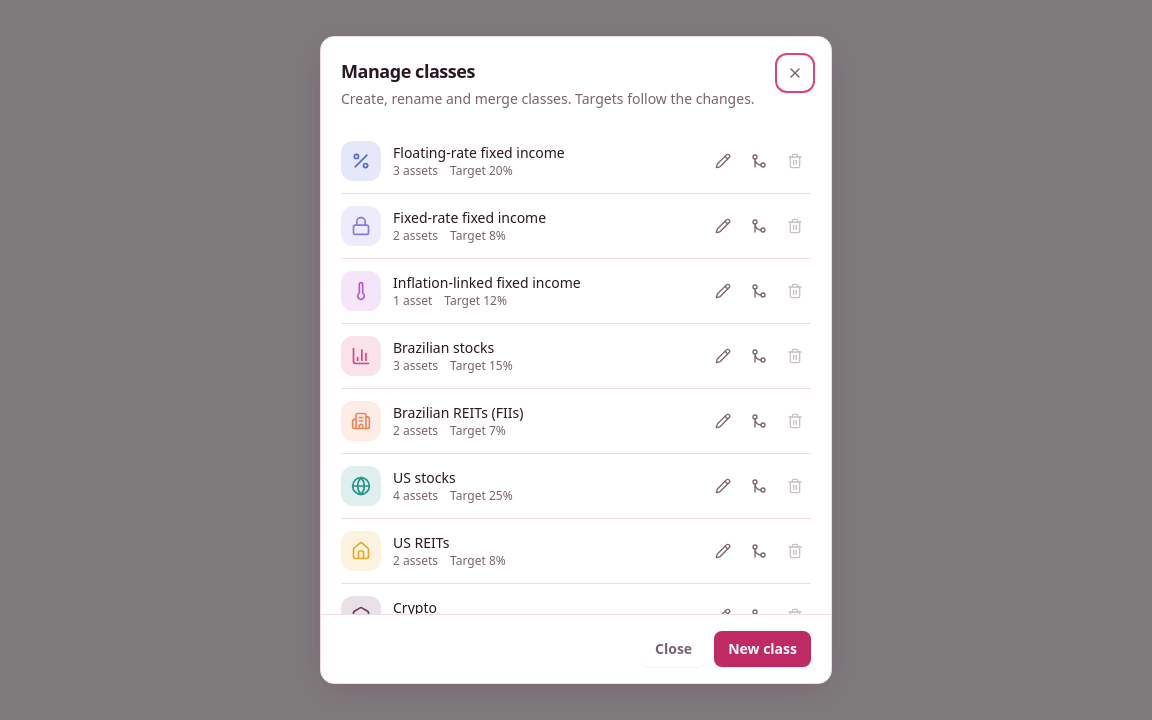
ClassManagerDialog: inglês e plural › traduz o diálogo, as classes padrão e a confirmação
The image size is (1152, 720).
Click the button named "Merge Brazilian REITs (FIIs) into another" at (759, 421), box x1=743 y1=405 x2=775 y2=437
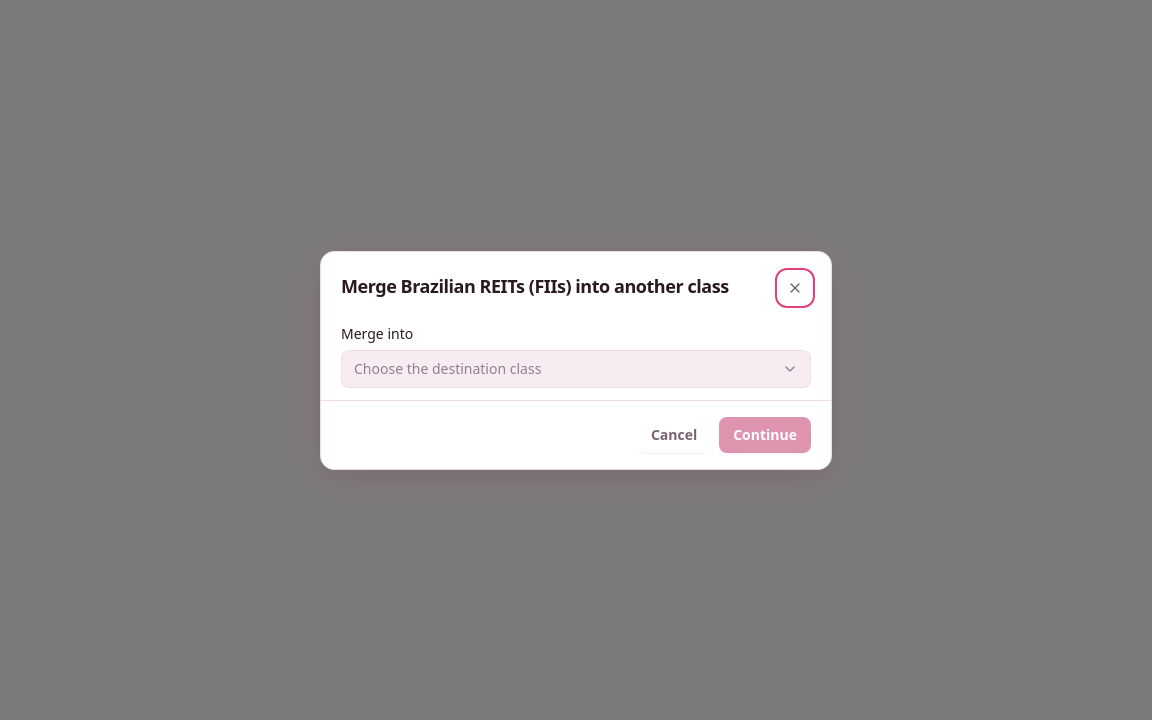
Click the dropdown at (448, 368), box x1=341 y1=350 x2=811 y2=388
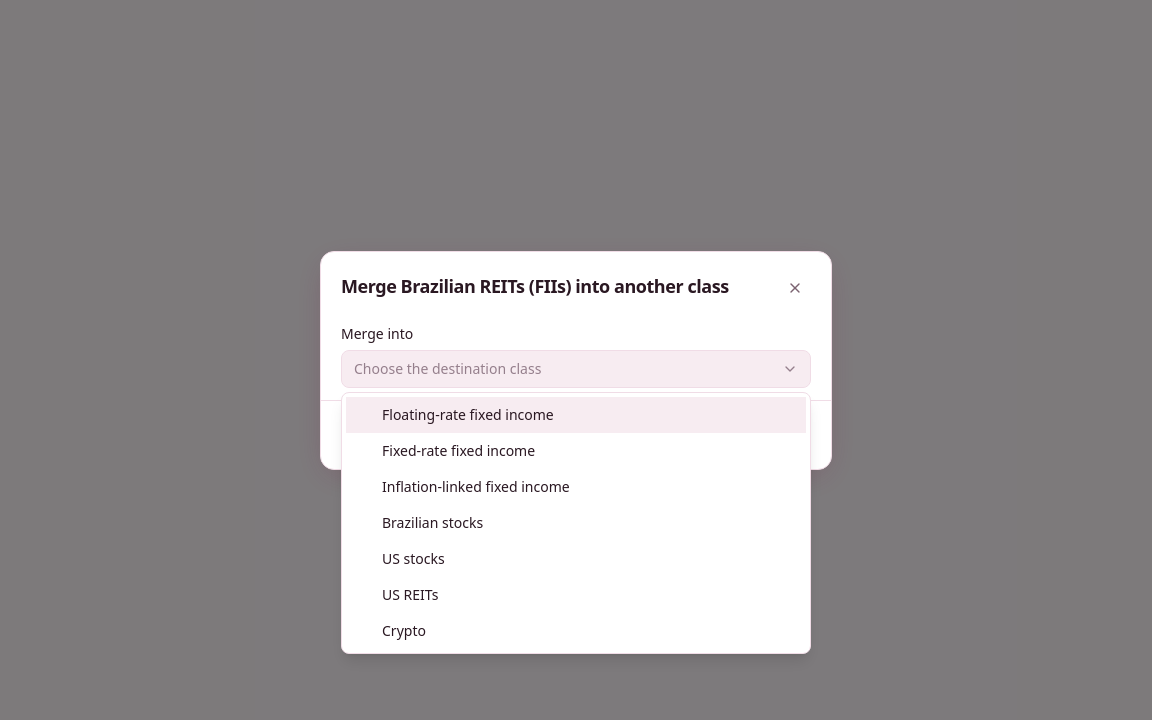
Click the option "US REITs" at (410, 594), box x1=382 y1=585 x2=438 y2=604
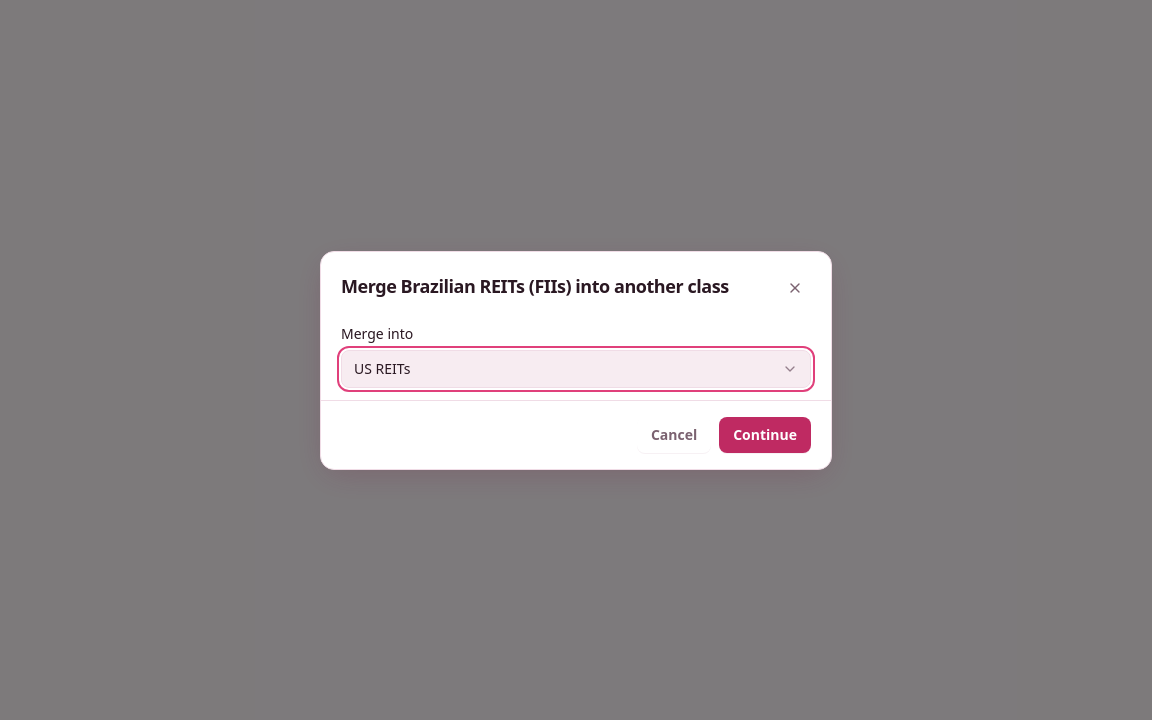
Click the button "Continue" at (765, 434), box x1=719 y1=416 x2=811 y2=452
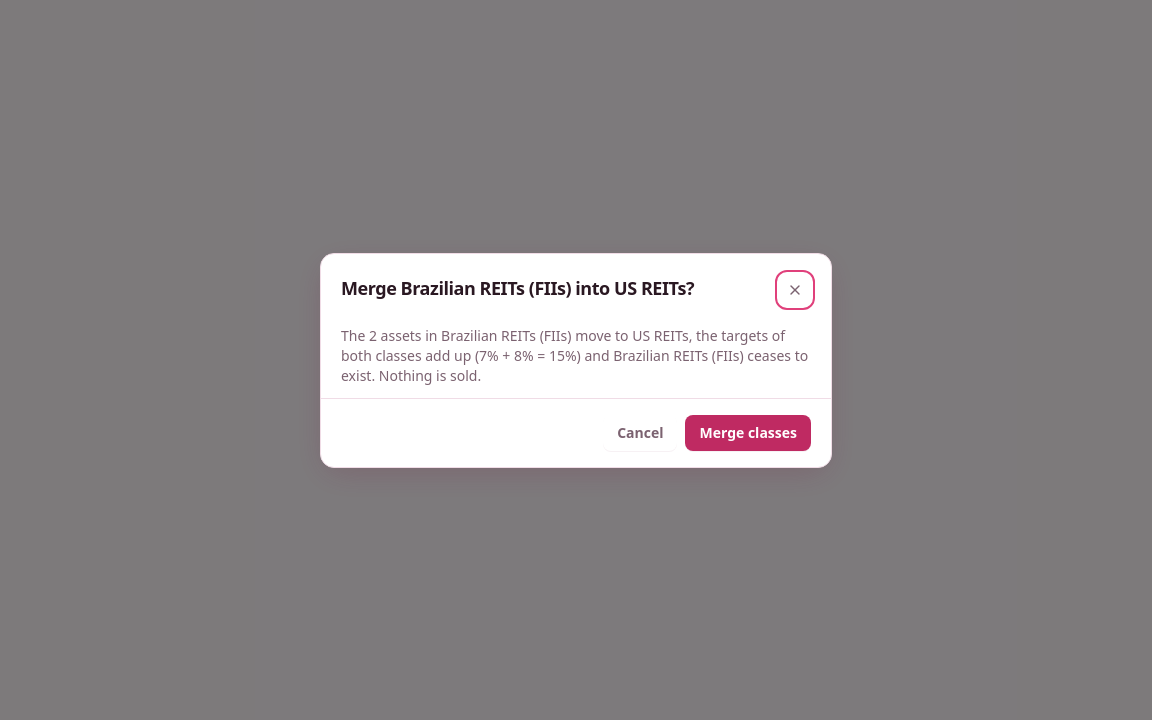
Now the dialog "Merge Brazilian REITs (FIIs) into US REITs?" shows "The 2 assets in Brazilian REITs (FIIs) move to US REITs, the targets of both classes add up (7% + 8% = 15%)", box x1=341 y1=326 x2=808 y2=384
